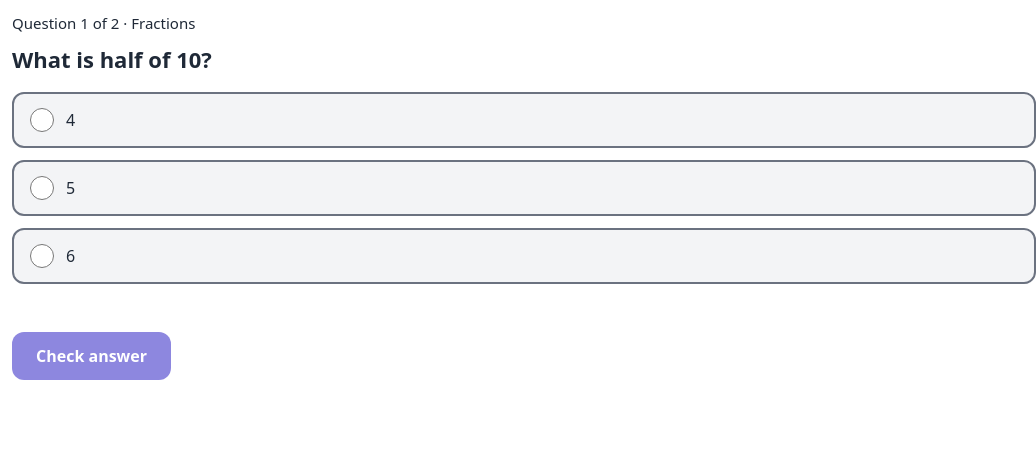
Test: Quiz › is kind about a wrong answer and shows the right one
Click the radio button labelled "4".
click(42, 120)  # box [30,108,54,132]
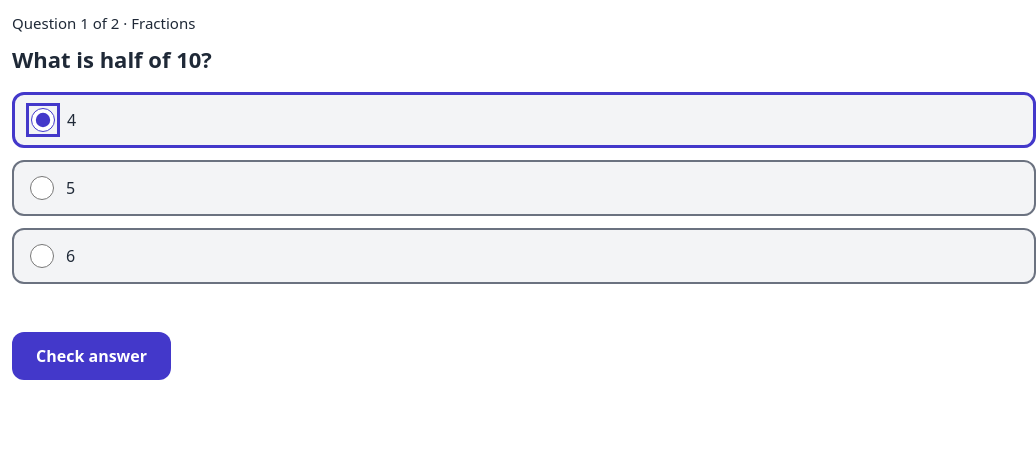
Click the button "Check answer".
click(92, 356)  # box [12,332,171,380]
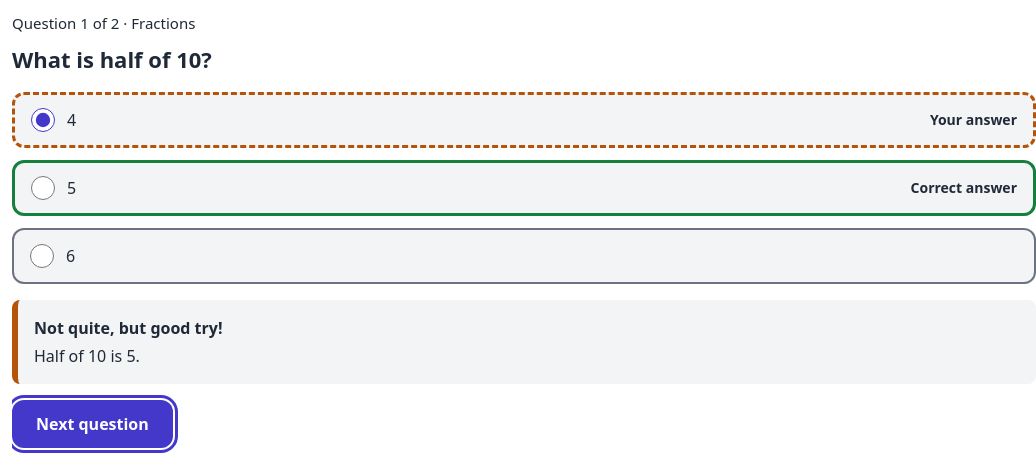
Now the message shows "Not quite, but good try", box [34,316,222,338]
Now the text "Correct answer" is shown, box [911,177,1017,198]
Now the text "Your answer" is shown, box [930,109,1017,130]
